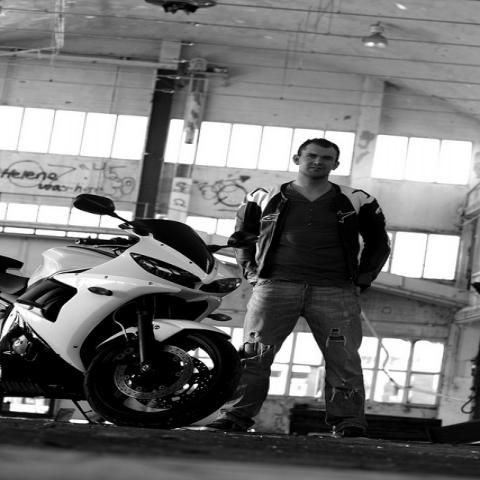motorcycle: (0, 192, 259, 430)
